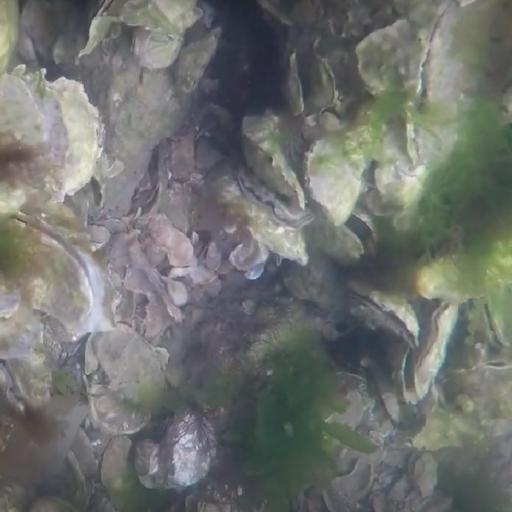Oyster-Closed: (418, 1, 512, 127), (51, 78, 107, 197), (353, 13, 420, 101), (99, 324, 169, 407), (309, 135, 364, 224), (174, 415, 215, 486)
Oyster-Open: (1, 209, 105, 335), (414, 299, 455, 410), (227, 173, 302, 232), (344, 289, 419, 348), (313, 212, 376, 276), (472, 291, 512, 360)
